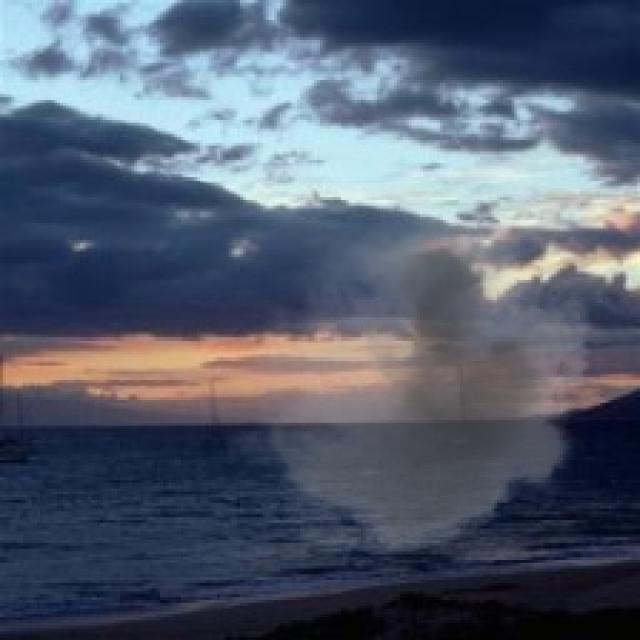smoke: (226, 206, 608, 571)
